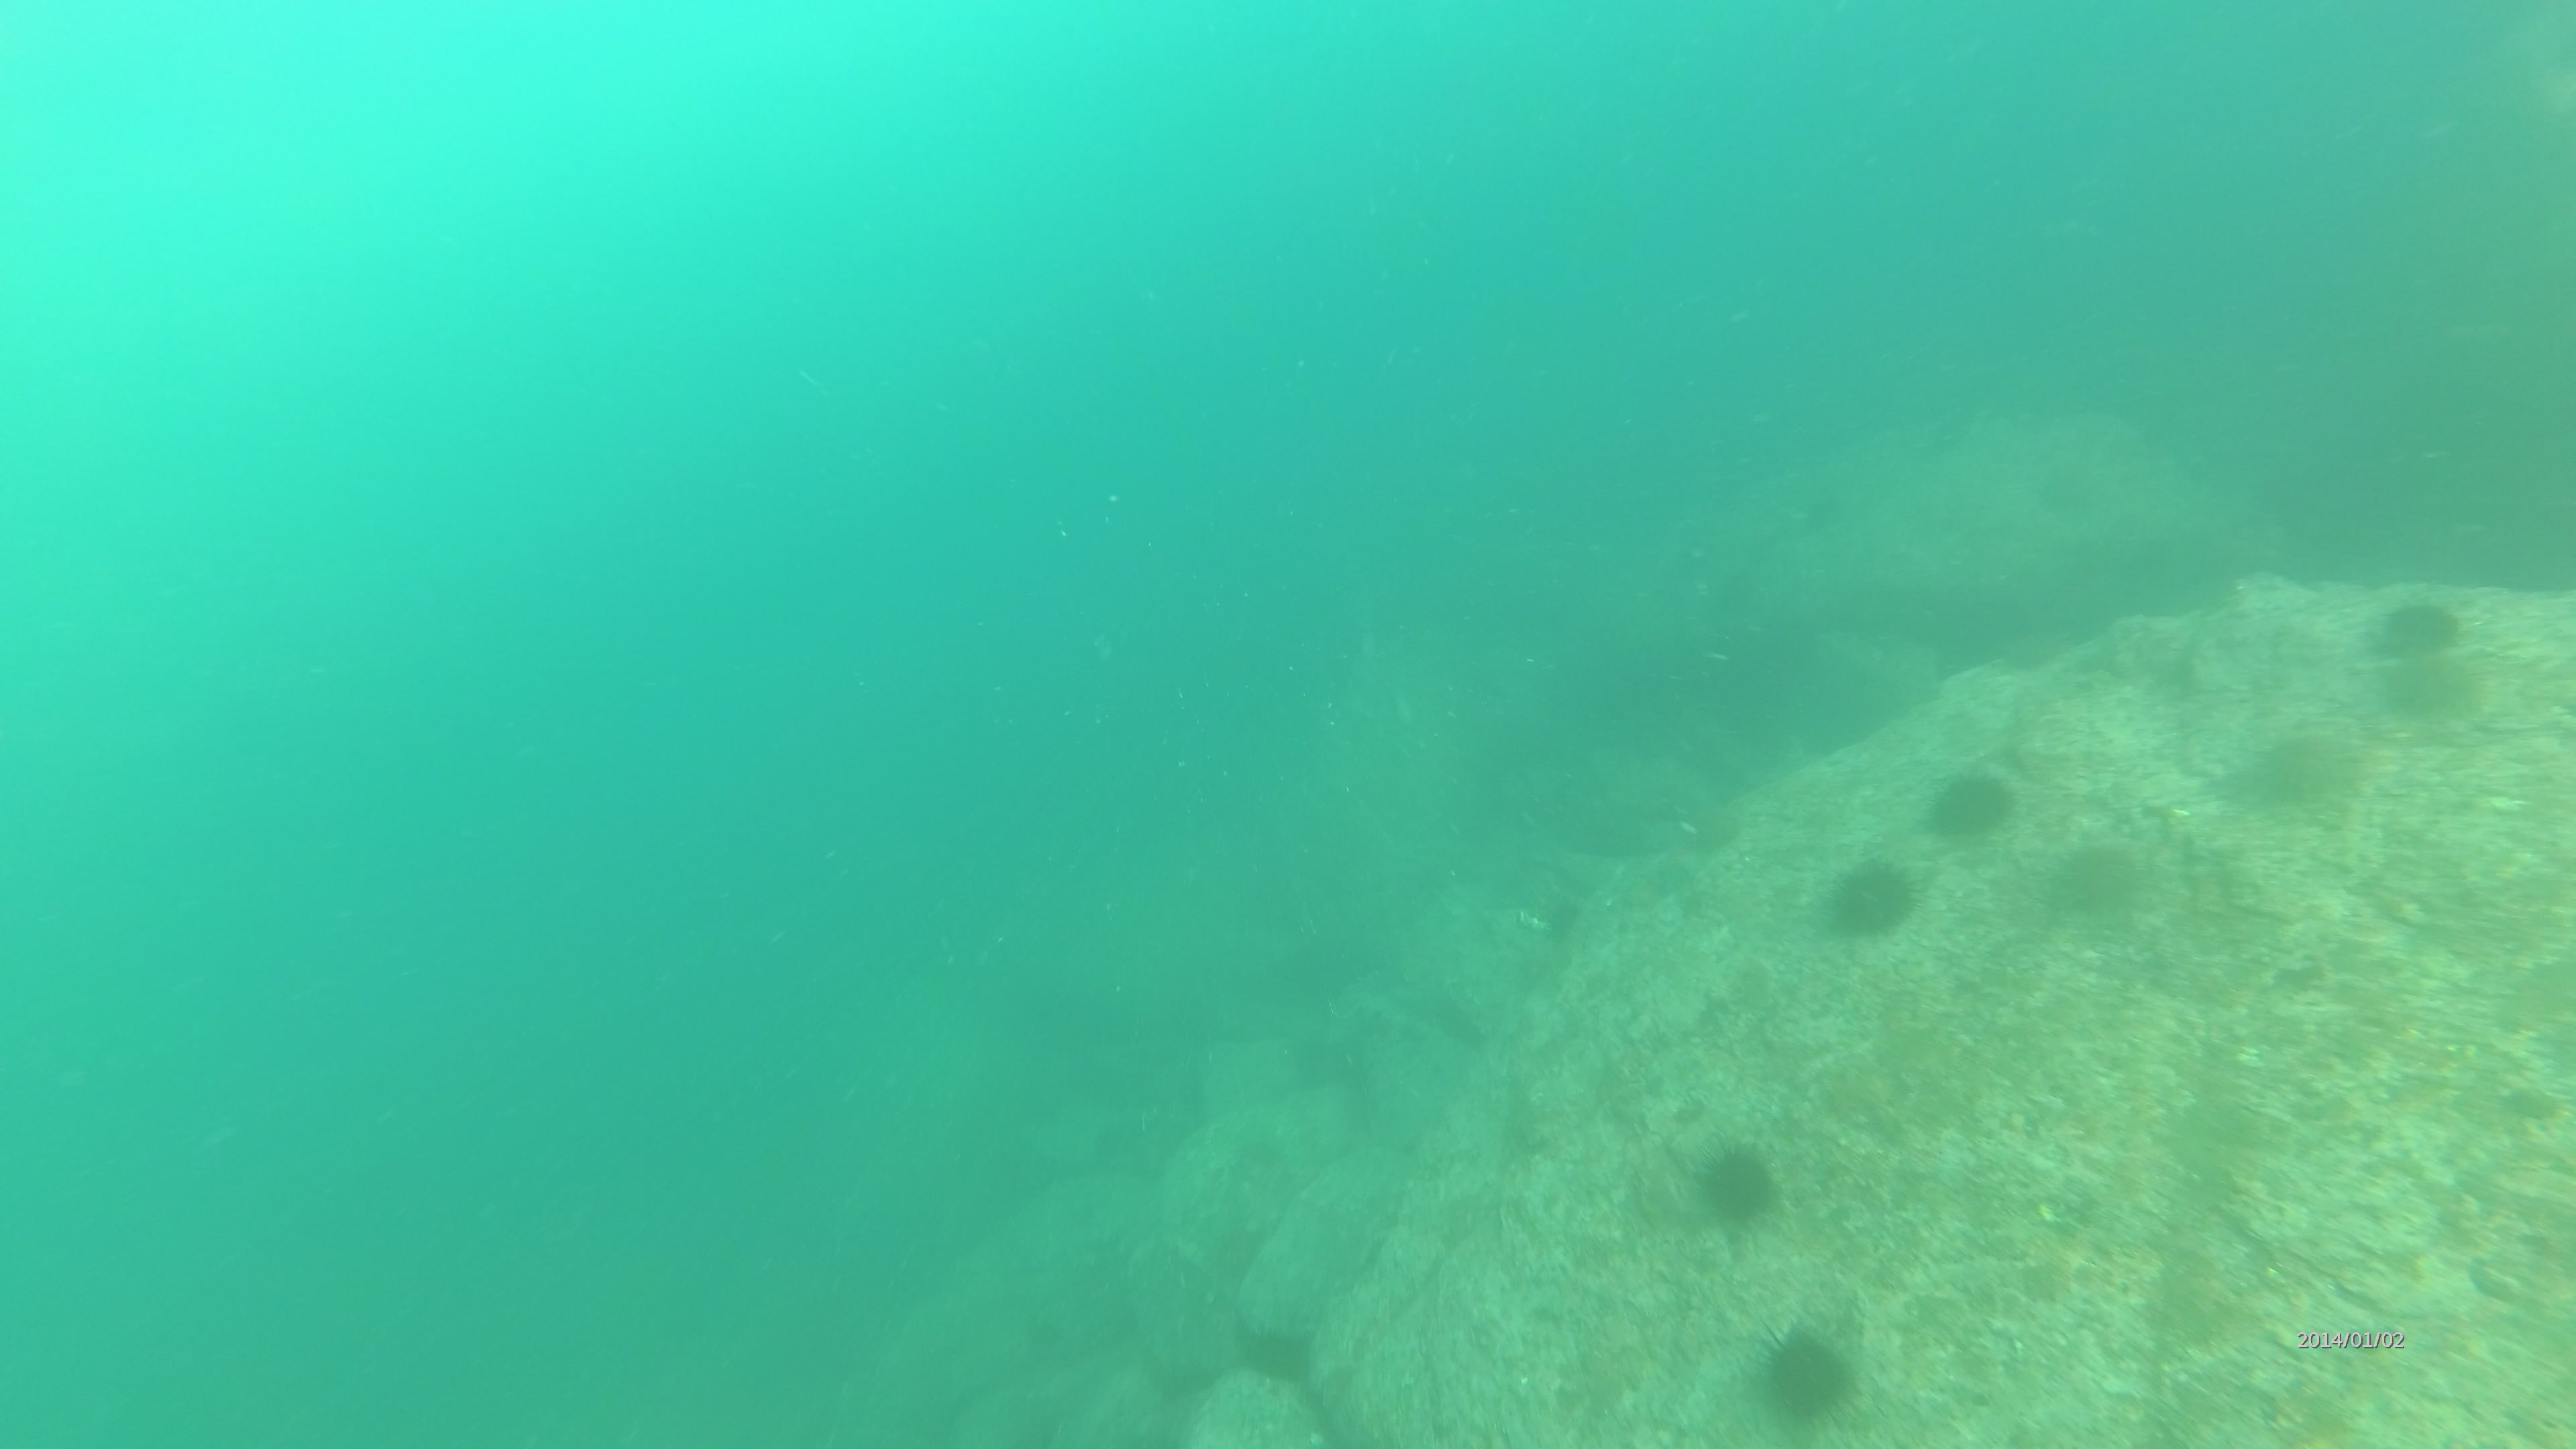echinus: (1746, 1329, 1858, 1419), (1813, 860, 1918, 932), (1711, 1131, 1789, 1221), (2364, 591, 2468, 653), (1936, 757, 1996, 832)
